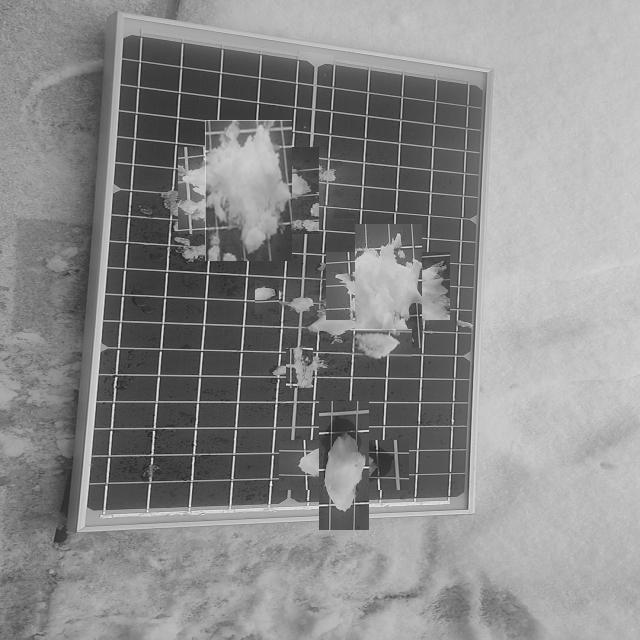faulty: (80, 18, 488, 522)
